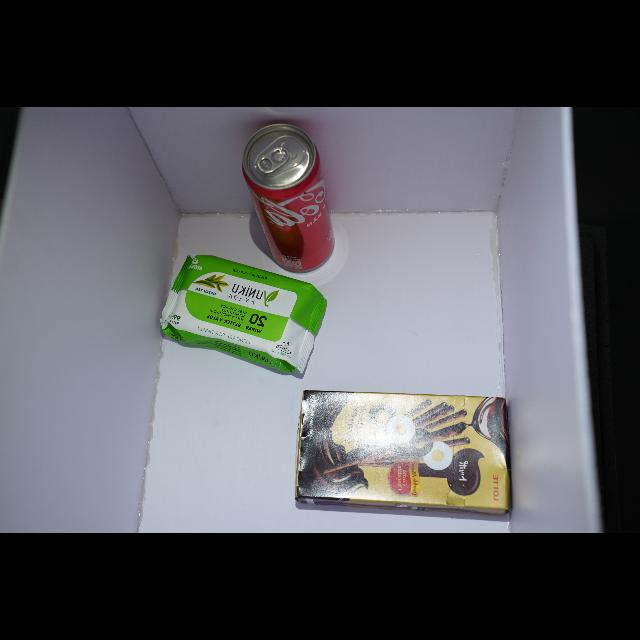banh_toppo_socola: (295, 391, 510, 515)
coca_cola: (243, 124, 334, 272)
khan_giay: (161, 255, 327, 374)
